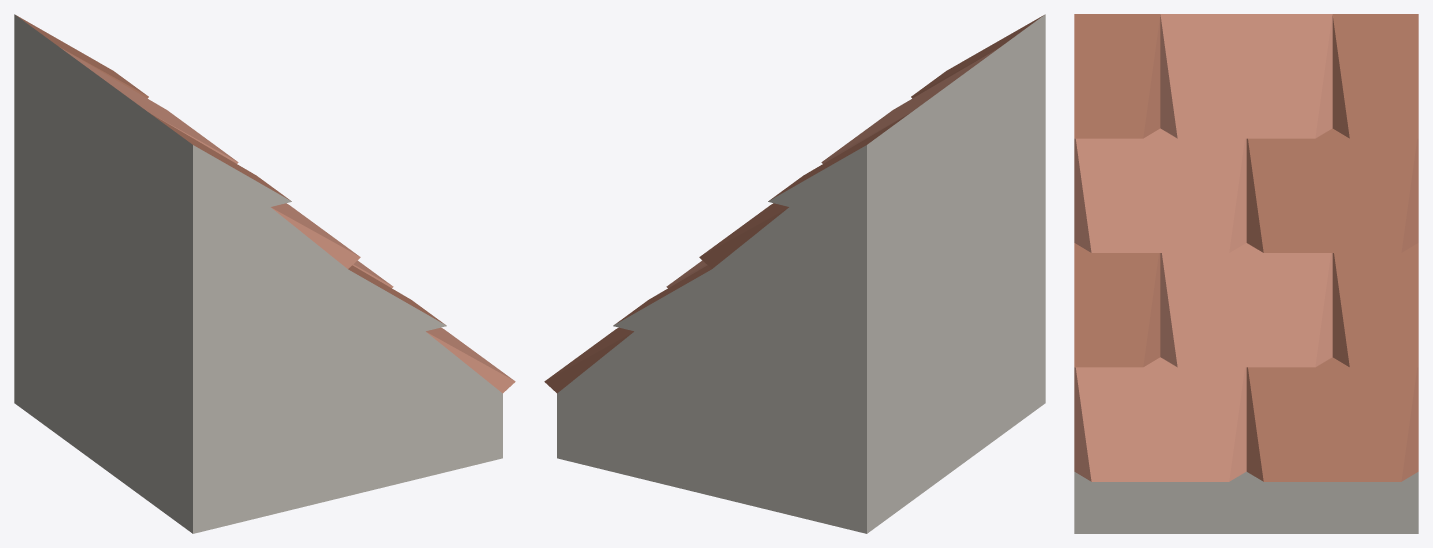
The model's file is Roof_Straight_Side.glb.
3 renders of one model, left to right at view 1: azimuth 30°, elevation 25°; view 2: azimuth 150°, elevation 25°; view 3: azimuth 270°, elevation 25°, orthographic. The views are drawn at different scales.
Visible parts, largest first — view 1: object1; view 2: object1; view 3: object1.
Boxes of the visible parts, left/top/right/bottom form: object1: left=14, top=14, right=515, bottom=533; object1: left=544, top=14, right=1045, bottom=533; object1: left=1074, top=14, right=1418, bottom=533.
Bounding box in the file's own units: 1.07 × 1.2 × 1.
